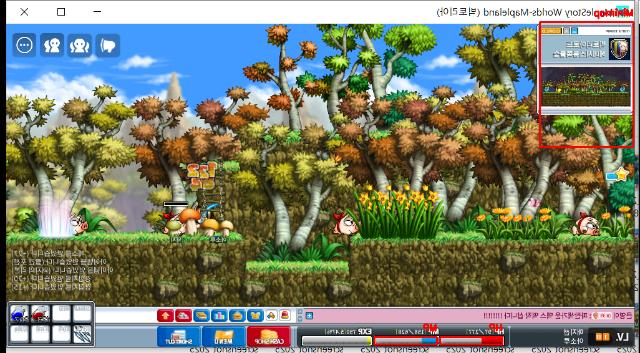me: (196, 202, 224, 246)
pig: (332, 210, 362, 238), (158, 212, 190, 236), (571, 212, 601, 235), (70, 214, 88, 234)
